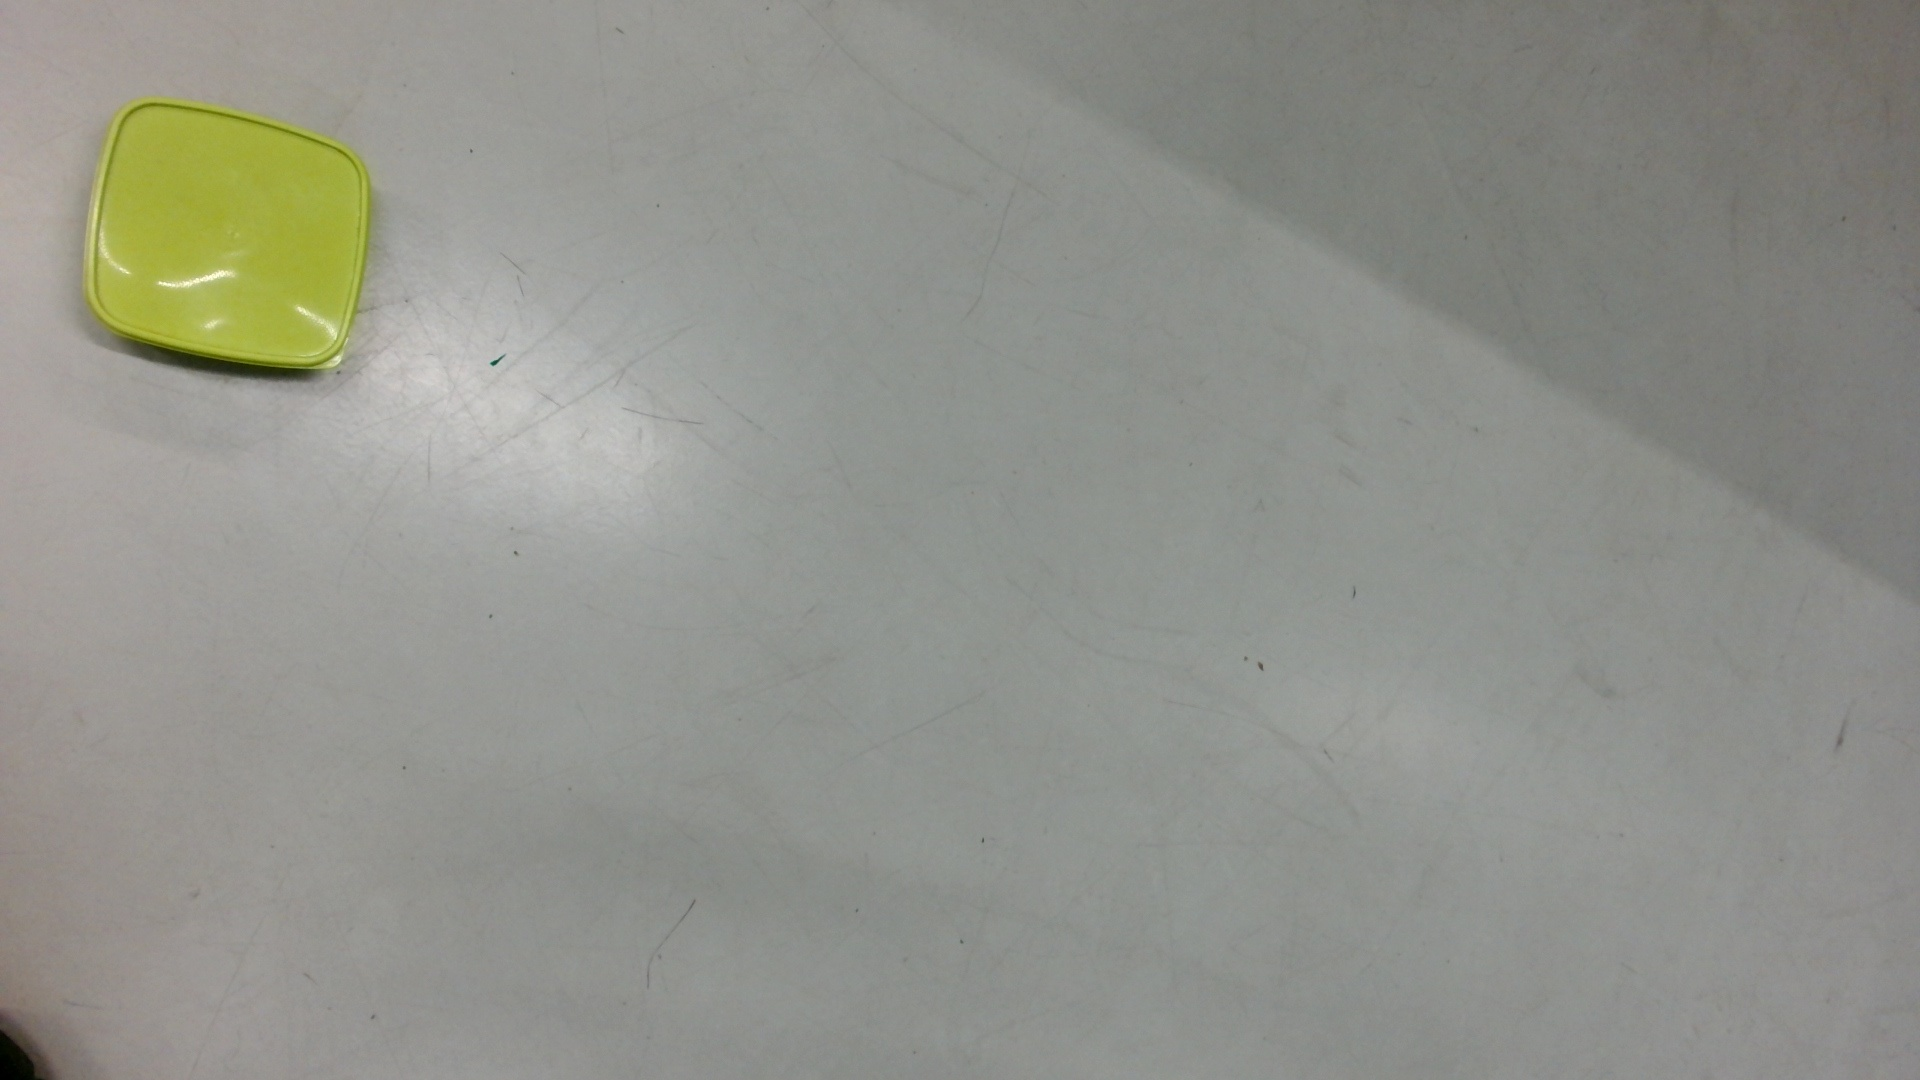Box: (76, 94, 380, 385)
